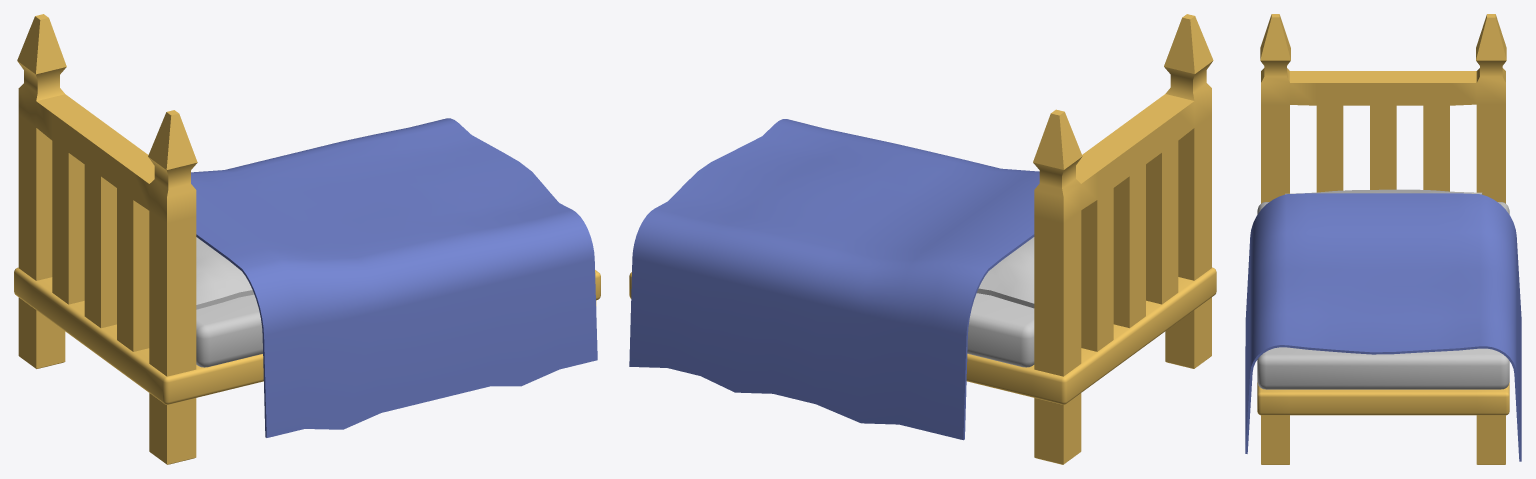
File: Asset008_Cama.fbx
The picture shows the model from 3 angles, left to right: view 1: azimuth 30°, elevation 25°; view 2: azimuth 150°, elevation 25°; view 3: azimuth 270°, elevation 25°; orthographic projection. The views are drawn at different scales.
Visible parts, largest first — view 1: Plane, Cube, Cube_1, Cube_2; view 2: Plane, Cube, Cube_1, Cube_2; view 3: Plane, Cube, Cube_1, Cube_2.
Boxes of the visible parts, x1,y1,x2,y2 form: Plane: [191, 118, 597, 437]; Cube: [14, 14, 600, 464]; Cube_1: [196, 294, 262, 367]; Cube_2: [196, 237, 254, 309]; Plane: [629, 119, 1039, 440]; Cube: [629, 14, 1216, 464]; Cube_1: [967, 293, 1034, 367]; Cube_2: [977, 237, 1034, 308]; Plane: [1245, 193, 1521, 461]; Cube: [1257, 14, 1509, 464]; Cube_1: [1257, 202, 1509, 389]; Cube_2: [1285, 189, 1482, 194].
Size of the model in its own units: 330 by 247 by 219.
